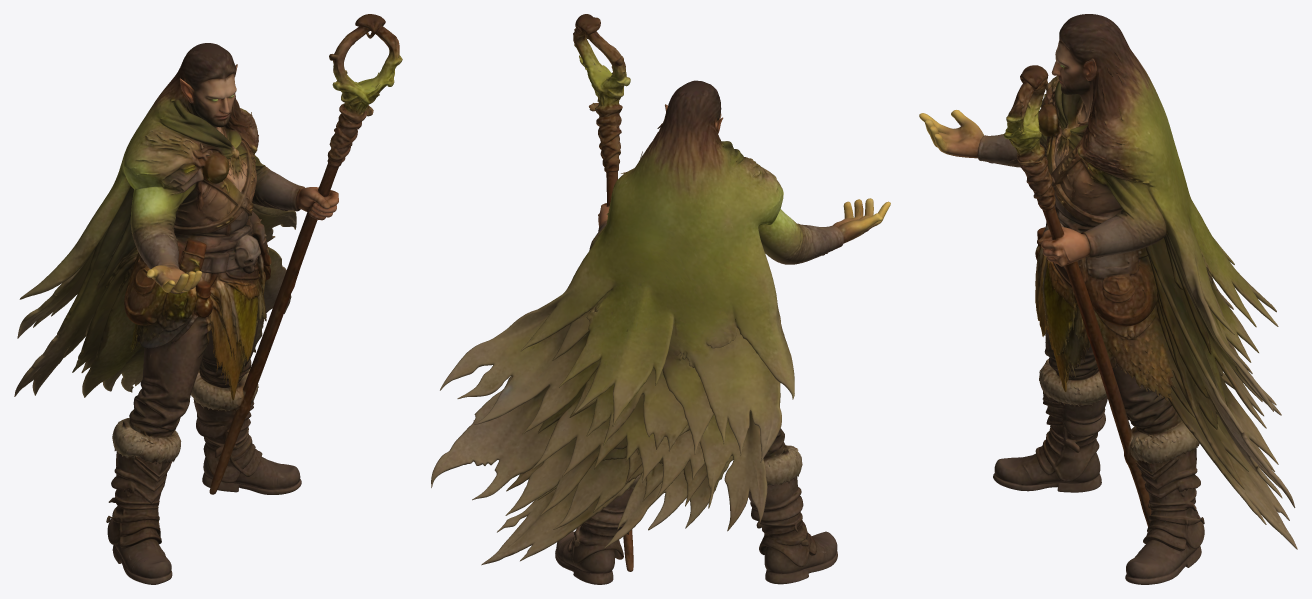
Rendered from hal_elf_druid_full_male_01.glb.
The picture shows the model from 3 angles, left to right: view 1: azimuth 30°, elevation 25°; view 2: azimuth 150°, elevation 25°; view 3: azimuth 270°, elevation 25°; orthographic projection. The views are drawn at different scales.
Parts seen in each view (by area): view 1: material; view 2: material; view 3: material.
Part boxes in pixels (left/top/right/bottom): material: left=14, top=14, right=402, bottom=584; material: left=431, top=14, right=890, bottom=584; material: left=919, top=14, right=1297, bottom=584.
Bounding box in the file's own units: 0.683 × 1.03 × 0.665.
1 material, 1 textured.
